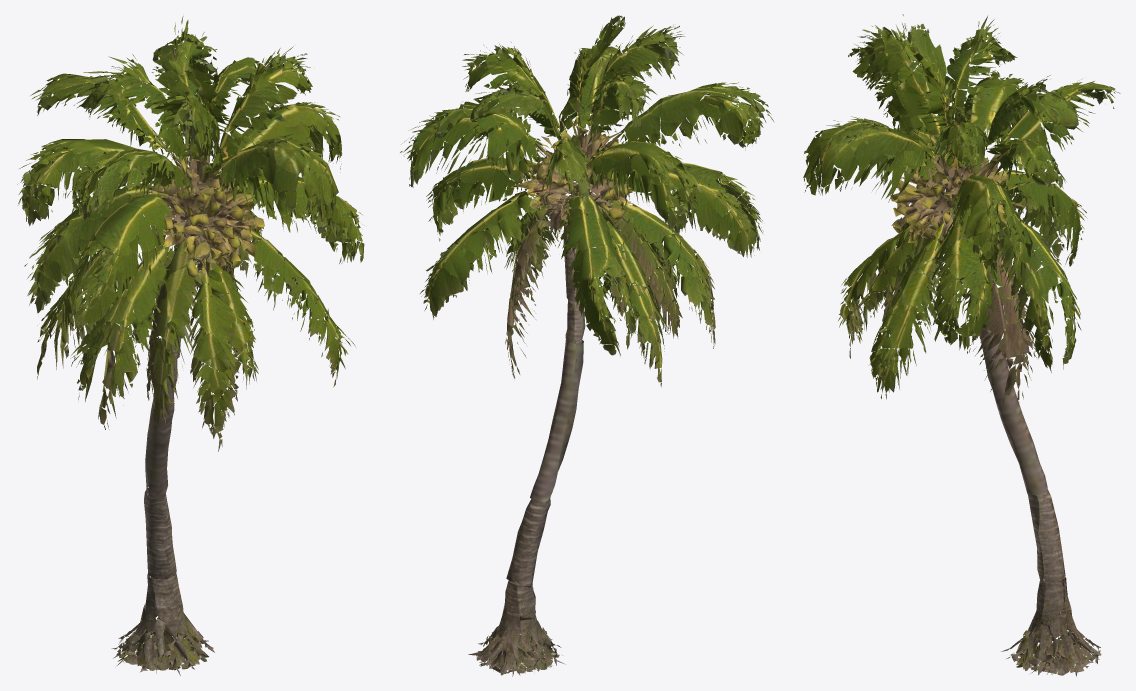
The model's file is coconut-palm.glb.
The picture shows the model from 3 angles, left to right: view 1: azimuth 30°, elevation 25°; view 2: azimuth 150°, elevation 25°; view 3: azimuth 270°, elevation 25°; orthographic projection. The views are drawn at different scales.
Visible parts, largest first — view 1: Mesh_0; view 2: Mesh_0; view 3: Mesh_0.
Boxes of the visible parts, bbox=[...] form: Mesh_0: bbox=[17, 16, 364, 675]; Mesh_0: bbox=[400, 15, 774, 676]; Mesh_0: bbox=[803, 14, 1120, 676].
Size of the model in its own units: 0.998 by 1.89 by 0.882.
Materials: 1 (1 with a texture image).
